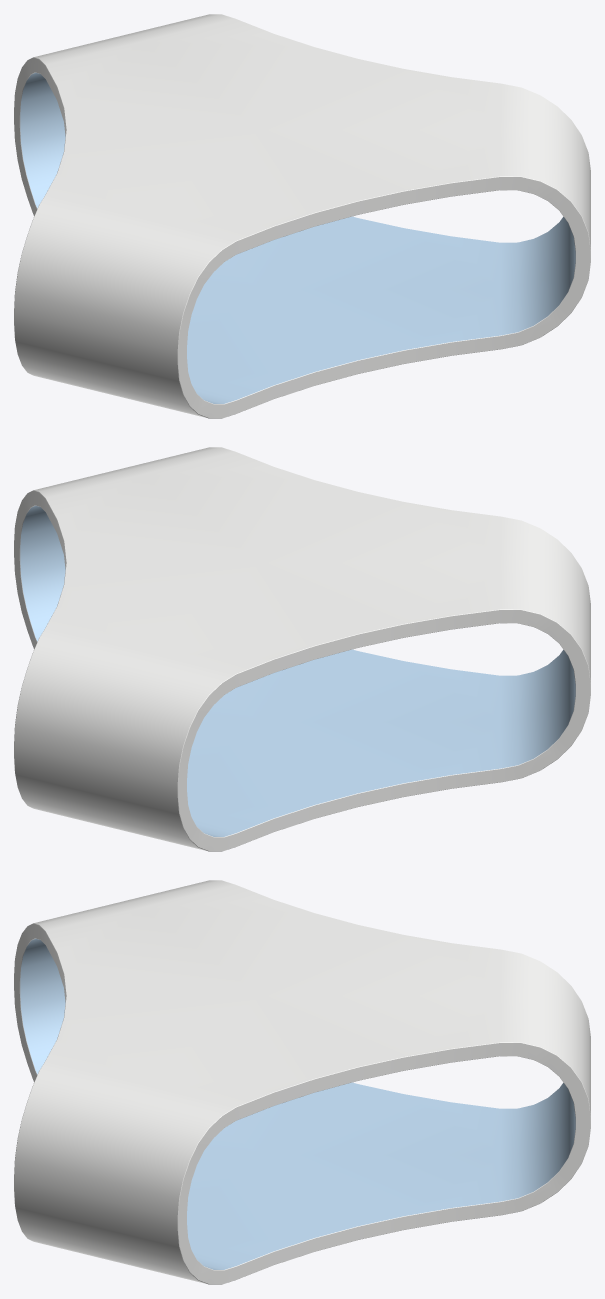
Rendered from table4.fbx.
The picture shows the model from 3 angles, top to bottom: view 1: azimuth 30°, elevation 25°; view 2: azimuth 150°, elevation 25°; view 3: azimuth 270°, elevation 25°; orthographic projection.
Parts seen in each view (by area): view 1: melia_design_pants_blue; view 2: melia_design_pants_blue; view 3: melia_design_pants_blue.
Part boxes in pixels (x1=…): melia_design_pants_blue: x1=14, y1=14, x2=590, y2=418; melia_design_pants_blue: x1=14, y1=447, x2=590, y2=851; melia_design_pants_blue: x1=14, y1=880, x2=590, y2=1284.
Size of the model in its own units: 16.86 by 4.83 by 14.61.
